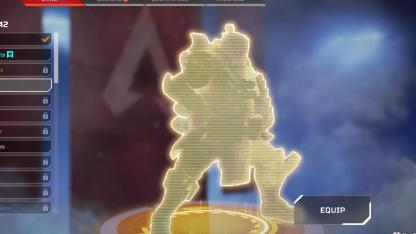Target: (157, 18, 301, 194)
